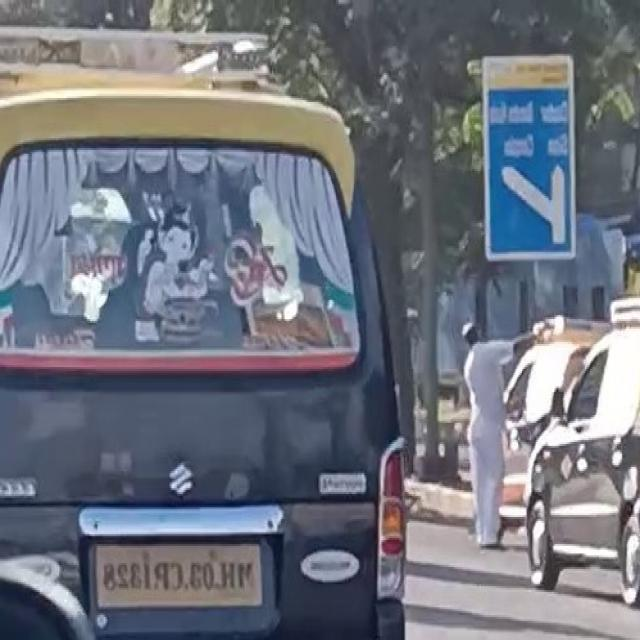license_plate: (91, 537, 267, 618)
